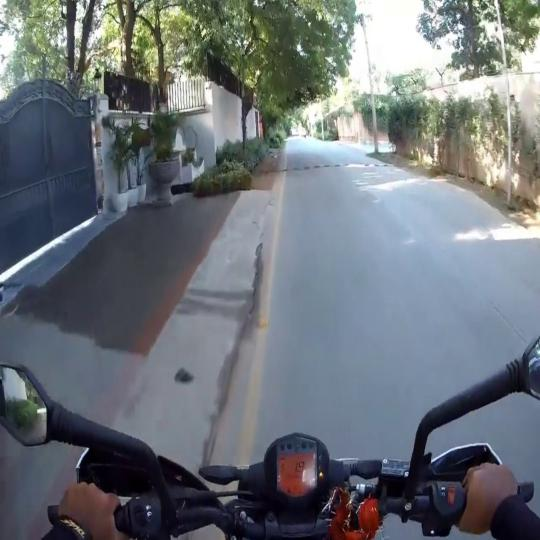Speed Bump: (278, 162, 395, 174)
